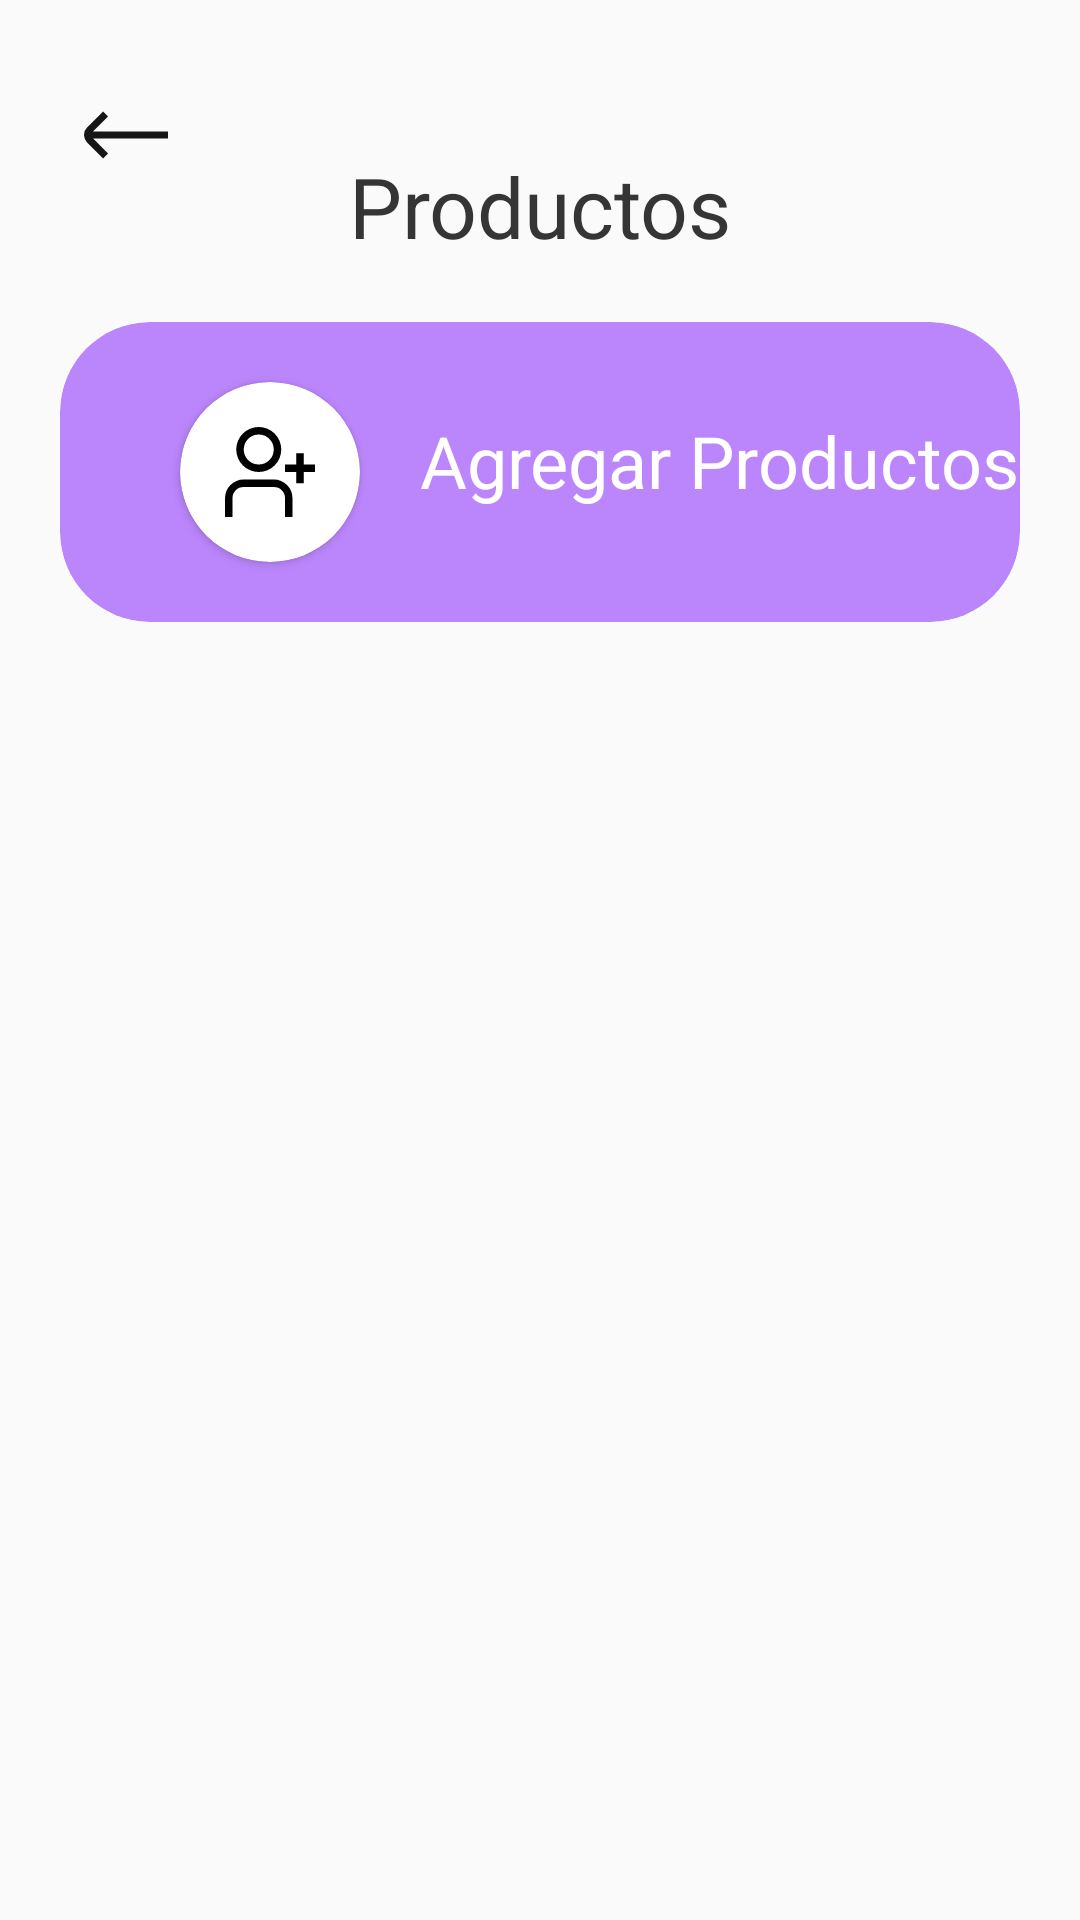

Screen size 1080×1920. Icon name, then its box in pixels as BBox(x1, y1, x2, y2):
arrow left: BBox(84, 111, 168, 159)
user add: BBox(225, 427, 315, 517)
